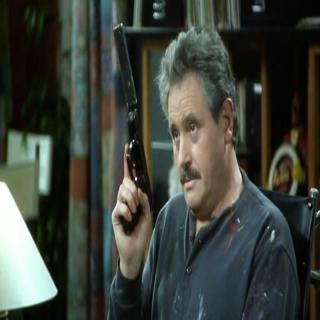gun: (106, 15, 158, 233)
